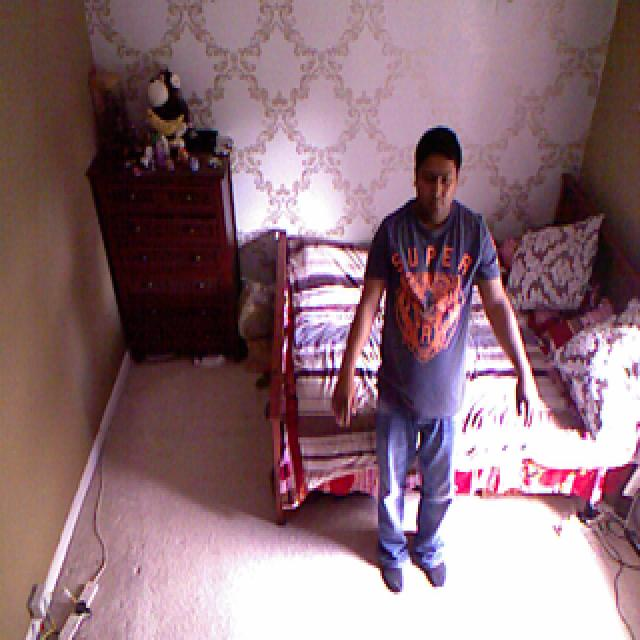standing: (340, 130, 539, 614)
